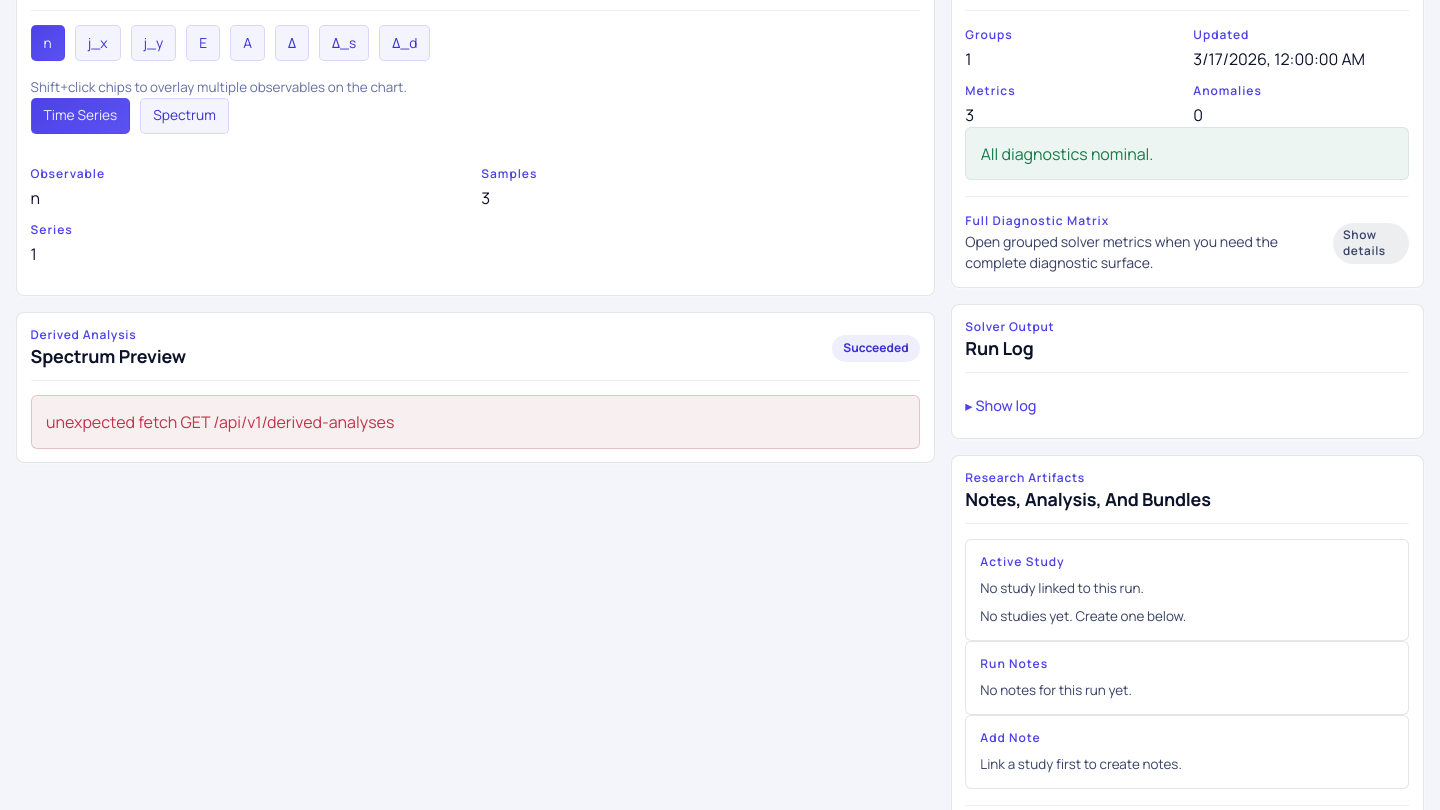
Test case: App › shows run log panel for completed runs
This screenshot has width=1440, height=810.
(page scrolled)
Click the button "▸ Show log": {"x": 1001, "y": 406} [965,387,1036,425]
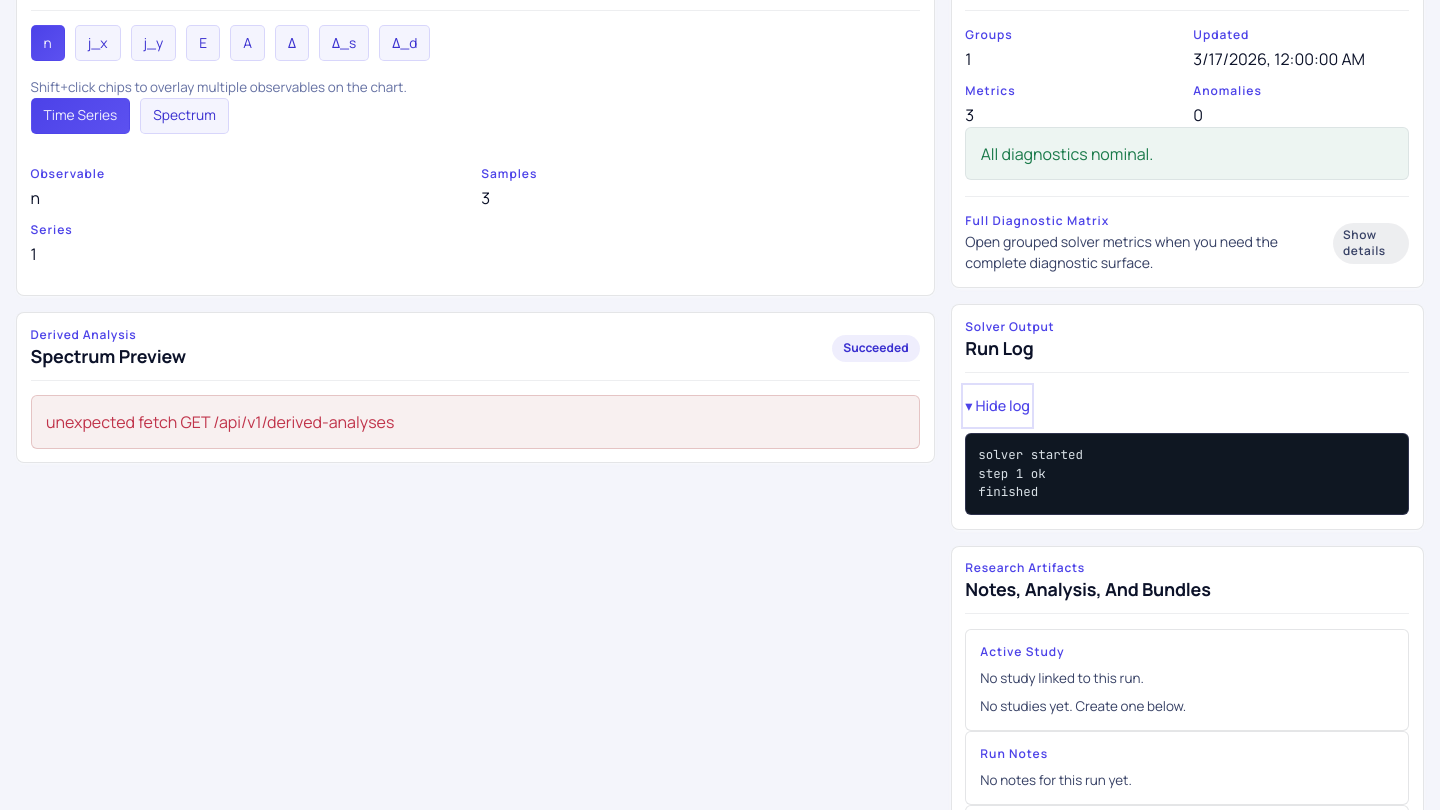
expect the text "solver started step 1 ok finished" is shown: met, box [978,446,1083,500]
